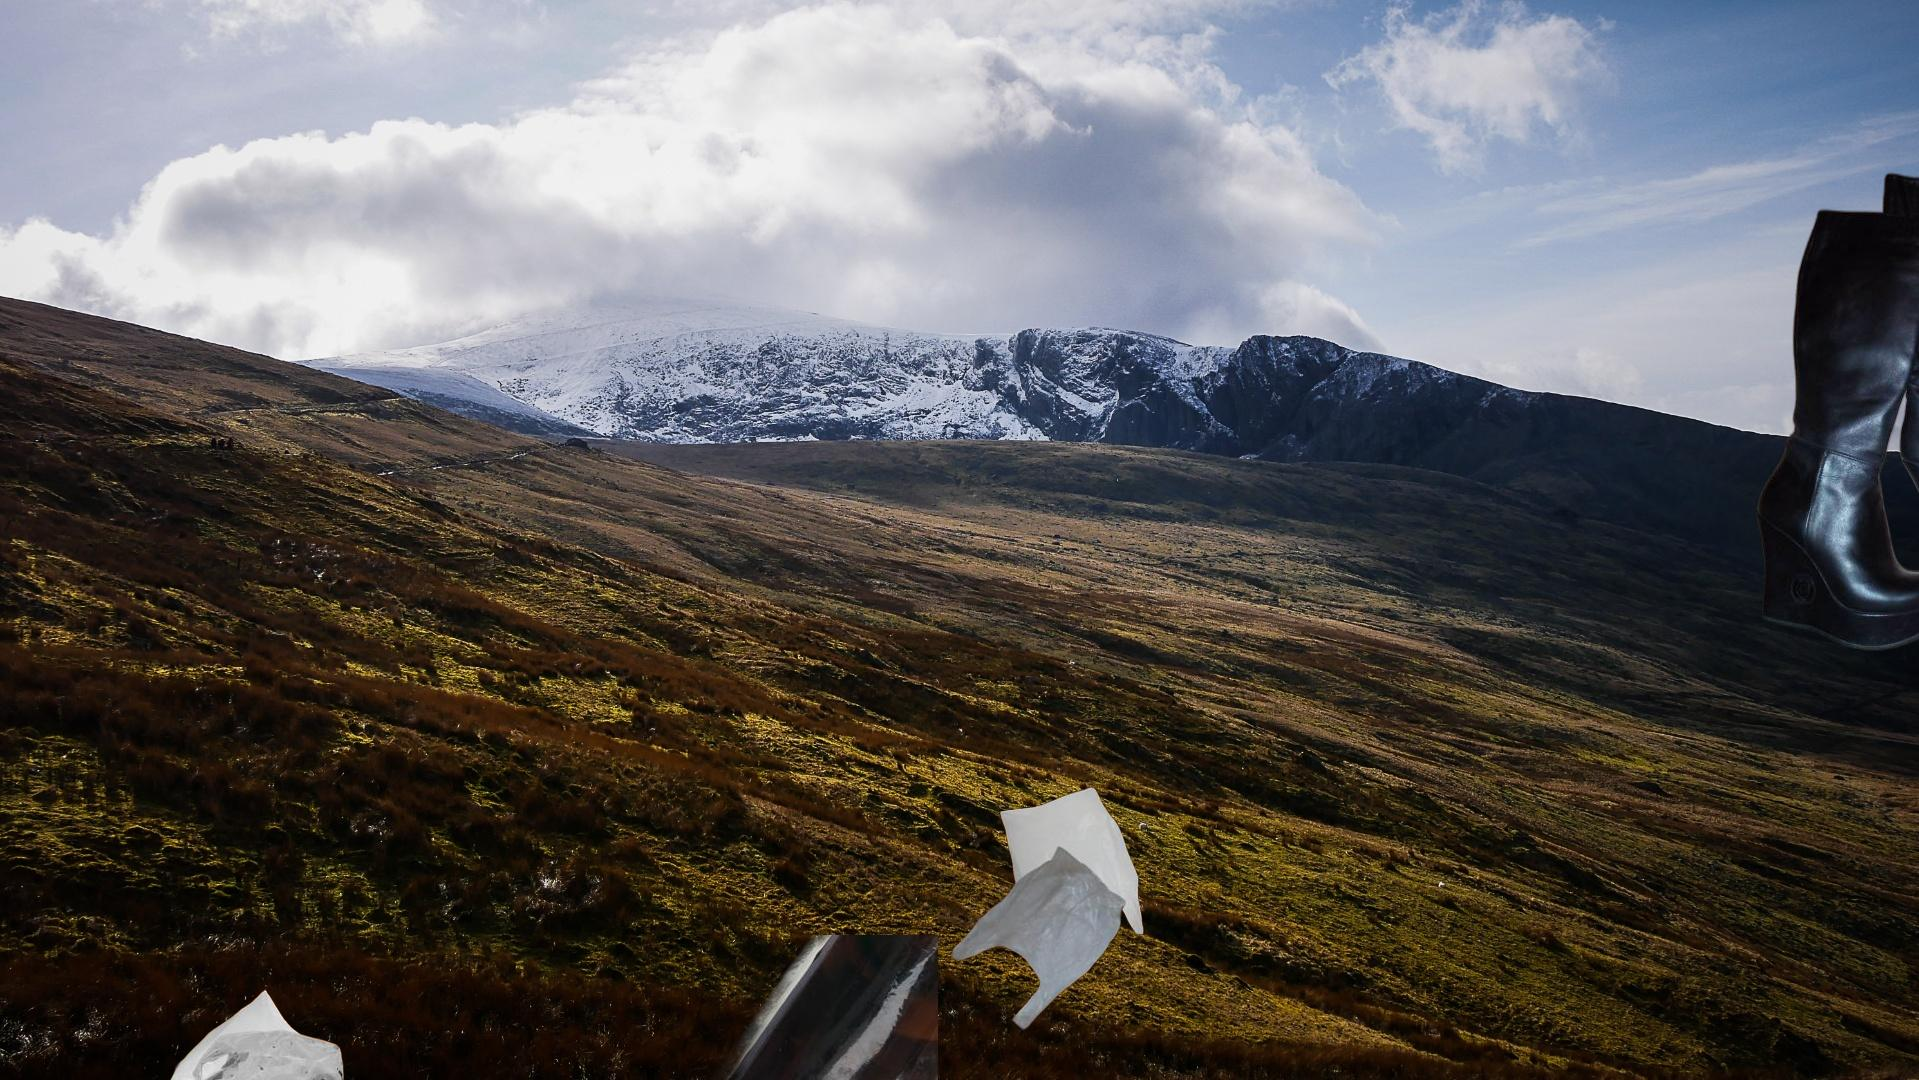glass: (613, 935, 938, 1080)
plastic-bag: (949, 785, 1147, 1033), (150, 986, 347, 1080)
shoes: (1753, 152, 1919, 655)
